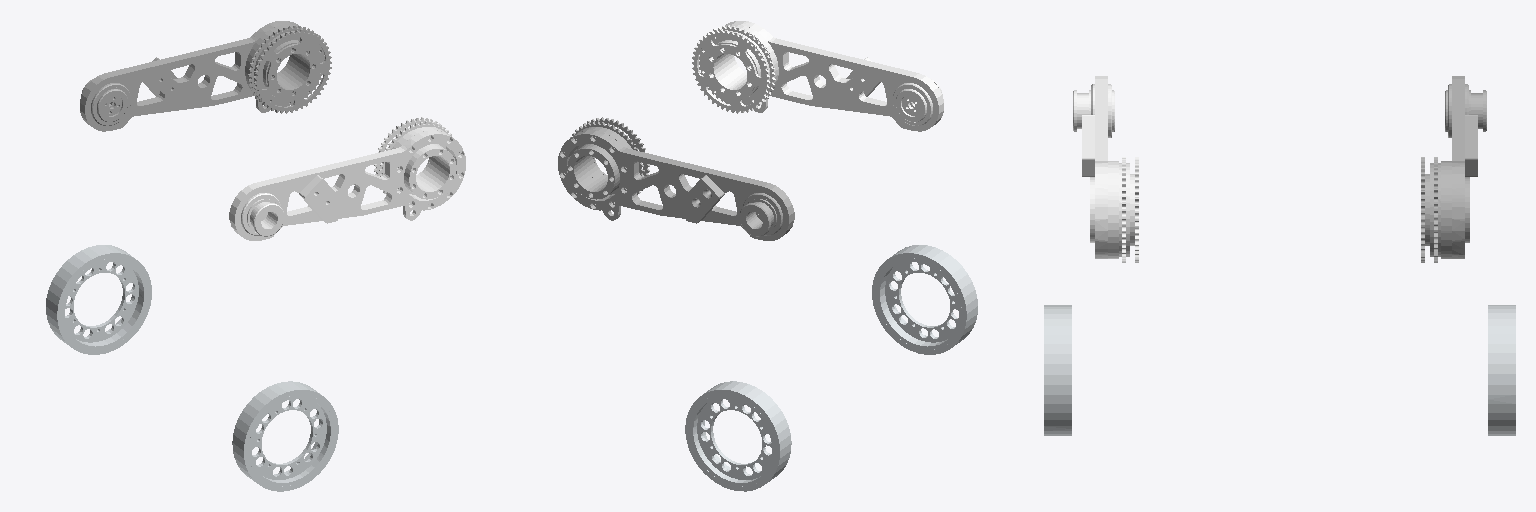
URDF robot description (balance):
<?xml version="1.0" encoding="utf-8"?>
<!-- This URDF was automatically created by SolidWorks to URDF Exporter! Originally created by [author] ([email redacted]) 
     Commit Version: 1.6.0-4-g7f85cfe  Build Version: 1.6.7995.38578
     For more information, please see http://wiki.ros.org/sw_urdf_exporter -->
<robot
  name="balance">
  <link
    name="base_link">
    <inertial>
      <origin
        xyz="0.008 0 0.141"
        rpy="0 0 0" />
      <mass
        value="16.932" />
      <inertia
        ixx="0.37275"
        ixy="-0.00121"
        ixz="-0.06794"
        iyy="0.47986"
        iyz="0.025803"
        izz="0.46278" />
    </inertial>
    <visual>
      <origin
        xyz="0 0 0"
        rpy="0 0 0" />
      <geometry>
        <mesh
          filename="../meshes/base_link.STL" />
      </geometry>
      <material
        name="">
        <color
          rgba="0.75294 0.75294 0.75294 1" />
      </material>
    </visual>
    <collision>
      <origin
        xyz="0 0 0"
        rpy="0 0 0" />
      <geometry>
        <mesh
          filename="../meshes/base_link.STL" />
      </geometry>
    </collision>
  </link>
  <link
    name="lf0_link">
    <inertial>
      <origin
        xyz="-0.065851 -0.00030353 -0.0092889"
        rpy="0 0 0" />
      <mass
        value="0.94321" />
      <inertia
        ixx="0.00050936"
        ixy="-3.8772E-05"
        ixz="2.8159E-06"
        iyy="0.0023776"
        iyz="5.2676E-07"
        izz="0.0028506" />
    </inertial>
    <visual>
      <origin
        xyz="0 0 0"
        rpy="0 0 0" />
      <geometry>
        <mesh
          filename="../meshes/lf0_link.STL" />
      </geometry>
      <material
        name="">
        <color
          rgba="0.75294 0.75294 0.75294 1" />
      </material>
    </visual>
    <collision>
      <origin
        xyz="0 0 0"
        rpy="0 0 0" />
      <geometry>
        <mesh
          filename="../meshes/lf0_link.STL" />
      </geometry>
    </collision>
  </link>
  <joint
    name="lf0_joint"
    type="revolute">
    <origin
      xyz="-0.00058256 0.14902 -0.0093063"
      rpy="-1.5708 0 0" />
    <parent
      link="base_link" />
    <child
      link="lf0_link" />
    <axis
      xyz="0 0 1" />
    <limit
      lower="-1.1"
      upper="0.4"
      effort="40"
      velocity="10.472" />
  </joint>
  <link
    name="lf1_link">
    <inertial>
      <origin
        xyz="-0.0092352 0.1524 0.0042684"
        rpy="0 0 0" />
      <mass
        value="0.61081" />
      <inertia
        ixx="0.006558"
        ixy="-0.000191"
        ixz="9E-06"
        iyy="0.00026"
        iyz="-0.000328"
        izz="0.006647" />
    </inertial>
    <visual>
      <origin
        xyz="0 0 0"
        rpy="0 0 0" />
      <geometry>
        <mesh
          filename="../meshes/lf1_link.STL" />
      </geometry>
      <material
        name="">
        <color
          rgba="0.75294 0.75294 0.75294 1" />
      </material>
    </visual>
    <collision>
      <origin
        xyz="0 0 0"
        rpy="0 0 0" />
      <geometry>
        <mesh
          filename="../meshes/lf1_link.STL" />
      </geometry>
    </collision>
  </link>
  <joint
    name="lf1_joint"
    type="revolute">
    <origin
      xyz="-0.215 0 0.01715"
      rpy="0 0 0" />
    <parent
      link="lf0_link" />
    <child
      link="lf1_link" />
    <axis
      xyz="0 0 1" />
    <limit
      lower="-0.98"
      upper="0.366"
      effort="40"
      velocity="6" />
  </joint>
  <link
    name="lwheel_link">
    <inertial>
      <origin
        xyz="5.5511E-17 -2.7756E-17 -0.0012723"
        rpy="0 0 0" />
      <mass
        value="0.17502" />
      <inertia
        ixx="0.00040689"
        ixy="-4.9591E-21"
        ixz="-1.4812E-18"
        iyy="0.00040689"
        iyz="7.2176E-20"
        izz="0.00178918" />
    </inertial>
    <visual>
      <origin
        xyz="0 0 0"
        rpy="0 0 0" />
      <geometry>
        <mesh
          filename="../meshes/lwheel_link.STL" />
      </geometry>
      <material
        name="">
        <color
          rgba="0.89804 0.91765 0.92941 1" />
      </material>
    </visual>
    <collision>
      <origin
        xyz="0 0 0"
        rpy="0 0 0" />
      <geometry>
        <mesh
          filename="../meshes/lwheel_link.STL" />
      </geometry>
    </collision>
  </link>
  <joint
    name="lwheel_joint"
    type="revolute">
    <origin
      xyz="0.012 0.25772 0.02455"
      rpy="0 0 0" />
    <parent
      link="lf1_link" />
    <child
      link="lwheel_link" />
    <axis
      xyz="0 0 1" />
    <limit
      effort="3.5"
      velocity="59.795" />
  </joint>
  <link
    name="rf0_link">
    <inertial>
      <origin
        xyz="0 0 0"
        rpy="0 0 0" />
      <mass
        value="0" />
      <inertia
        ixx="0"
        ixy="0"
        ixz="0"
        iyy="0"
        iyz="0"
        izz="0" />
    </inertial>
    <visual>
      <origin
        xyz="0 0 0"
        rpy="0 0 0" />
      <geometry>
        <mesh
          filename="../meshes/rf0_link.STL" />
      </geometry>
      <material
        name="">
        <color
          rgba="1 1 1 1" />
      </material>
    </visual>
    <collision>
      <origin
        xyz="0 0 0"
        rpy="0 0 0" />
      <geometry>
        <mesh
          filename="../meshes/rf0_link.STL" />
      </geometry>
    </collision>
  </link>
  <joint
    name="rf0_joint"
    type="revolute">
    <origin
      xyz="-0.00058256 -0.17889 -0.0093063"
      rpy="1.5708 0 0" />
    <parent
      link="base_link" />
    <child
      link="rf0_link" />
    <axis
      xyz="0 0 1" />
    <limit
      lower="-0.4"
      upper="1.1"
      effort="40"
      velocity="10.472" />
  </joint>
  <link
    name="rf1_link">
    <inertial>
      <origin
        xyz="0.0092352 -0.15237 0.004267"
        rpy="0 0 0" />
      <mass
        value="0.6108" />
      <inertia
        ixx="0.006562"
        ixy="0.00010808"
        ixz="-4.3004E-08"
        iyy="0.00026"
        iyz="-2.3777E-07"
        izz="0.006651" />
    </inertial>
    <visual>
      <origin
        xyz="0 0 0"
        rpy="0 0 0" />
      <geometry>
        <mesh
          filename="../meshes/rf1_link.STL" />
      </geometry>
      <material
        name="">
        <color
          rgba="0.75294 0.75294 0.75294 1" />
      </material>
    </visual>
    <collision>
      <origin
        xyz="0 0 0"
        rpy="0 0 0" />
      <geometry>
        <mesh
          filename="../meshes/rf1_link.STL" />
      </geometry>
    </collision>
  </link>
  <joint
    name="rf1_joint"
    type="revolute">
    <origin
      xyz="-0.215 0 0.01715"
      rpy="0 0 0" />
    <parent
      link="rf0_link" />
    <child
      link="rf1_link" />
    <axis
      xyz="0 0 1" />
    <limit
      lower="-0.366"
      upper="0.98"
      effort="40"
      velocity="6" />
  </joint>
  <link
    name="rwheel_link">
    <inertial>
      <origin
        xyz="2.7756E-17 0 -0.0012723"
        rpy="0 0 0" />
      <mass
        value="0.17502" />
      <inertia
        ixx="0.00040689"
        ixy="4.08E-20"
        ixz="8.1869E-20"
        iyy="0.00040689"
        iyz="9.0483E-20"
        izz="0.00178918" />
    </inertial>
    <visual>
      <origin
        xyz="0 0 0"
        rpy="0 0 0" />
      <geometry>
        <mesh
          filename="../meshes/rwheel_link.STL" />
      </geometry>
      <material
        name="">
        <color
          rgba="0.89804 0.91765 0.92941 1" />
      </material>
    </visual>
    <collision>
      <origin
        xyz="0 0 0"
        rpy="0 0 0" />
      <geometry>
        <mesh
          filename="../meshes/rwheel_link.STL" />
      </geometry>
    </collision>
  </link>
  <joint
    name="rwheel_joint"
    type="revolute">
    <origin
      xyz="0.012 -0.25772 0.02455"
      rpy="0 0 0" />
    <parent
      link="rf1_link" />
    <child
      link="rwheel_link" />
    <axis
      xyz="0 0 1" />
    <limit
      effort="3.5"
      velocity="59.795" />
  </joint>
</robot>

--- What the picture shows (computed from the rendered views, not written in the file) ---
3 views of the same robot in one strip: view 1: azimuth 30°, elevation 25°; view 2: azimuth 150°, elevation 25°; view 3: azimuth 270°, elevation 25° (orthographic).
Robot: balance — 7 links, 6 joints (6 revolute); root link base_link; default pose: every joint at zero.
Visible links, largest first — view 1: lf0_link, rf0_link, lwheel_link, rwheel_link; view 2: rf0_link, lf0_link, lwheel_link, rwheel_link; view 3: lf0_link, rf0_link, lwheel_link, rwheel_link.
Link boxes in pixels (x1,y1,x2,y2): lf0_link: (80,21,331,131); rf0_link: (229,117,465,240); lwheel_link: (46,245,151,354); rwheel_link: (232,381,338,491); rf0_link: (692,21,943,131); lf0_link: (558,117,794,240); lwheel_link: (685,381,791,491); rwheel_link: (872,245,977,354); lf0_link: (1421,76,1486,262); rf0_link: (1073,76,1138,262); lwheel_link: (1488,305,1515,435); rwheel_link: (1044,305,1071,435).
Bounding box of the posed robot: 0.312 × 0.4333 × 0.3667 m (x, y, z).
Meshes: 7 distinct files referenced, 4 mesh visuals loaded (4 binary STL); not drawn: 3 (reference not matched to a file when rendering).